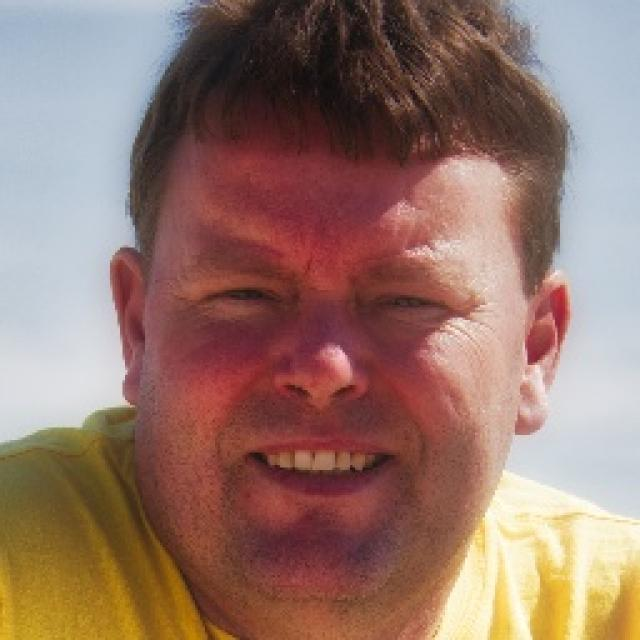earlobe: (512, 380, 549, 438), (117, 357, 153, 407)
eye: (201, 282, 281, 312), (364, 289, 446, 316)
nose: (269, 377, 373, 438)
wholeear: (512, 268, 572, 436), (109, 245, 153, 407)
